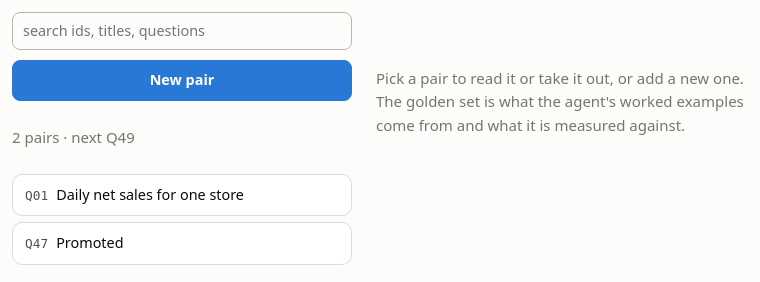
Test: the set › lists the pairs, how many, the next id, and searches them
Expected: the text "Daily net sales for one store" is shown, x1=56 y1=184 x2=244 y2=206
Expected: the text "2 pairs · next Q49" is shown, x1=12 y1=127 x2=135 y2=147
Type "how many" into the search field named "Search golden pairs". click: (182, 31)
box: x1=12 y1=12 x2=352 y2=50
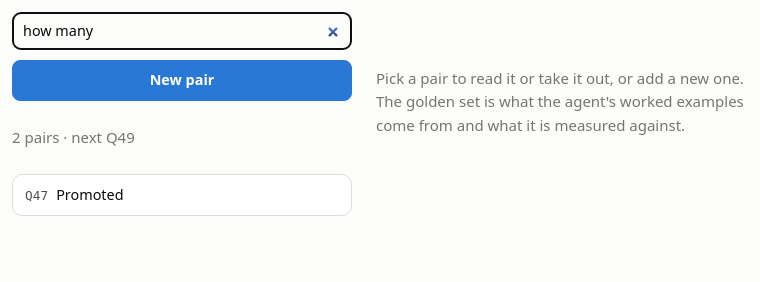
Expected: the text "Promoted" is shown, x1=56 y1=184 x2=124 y2=206
Expected: the button "Daily net sales for one store" is gone
